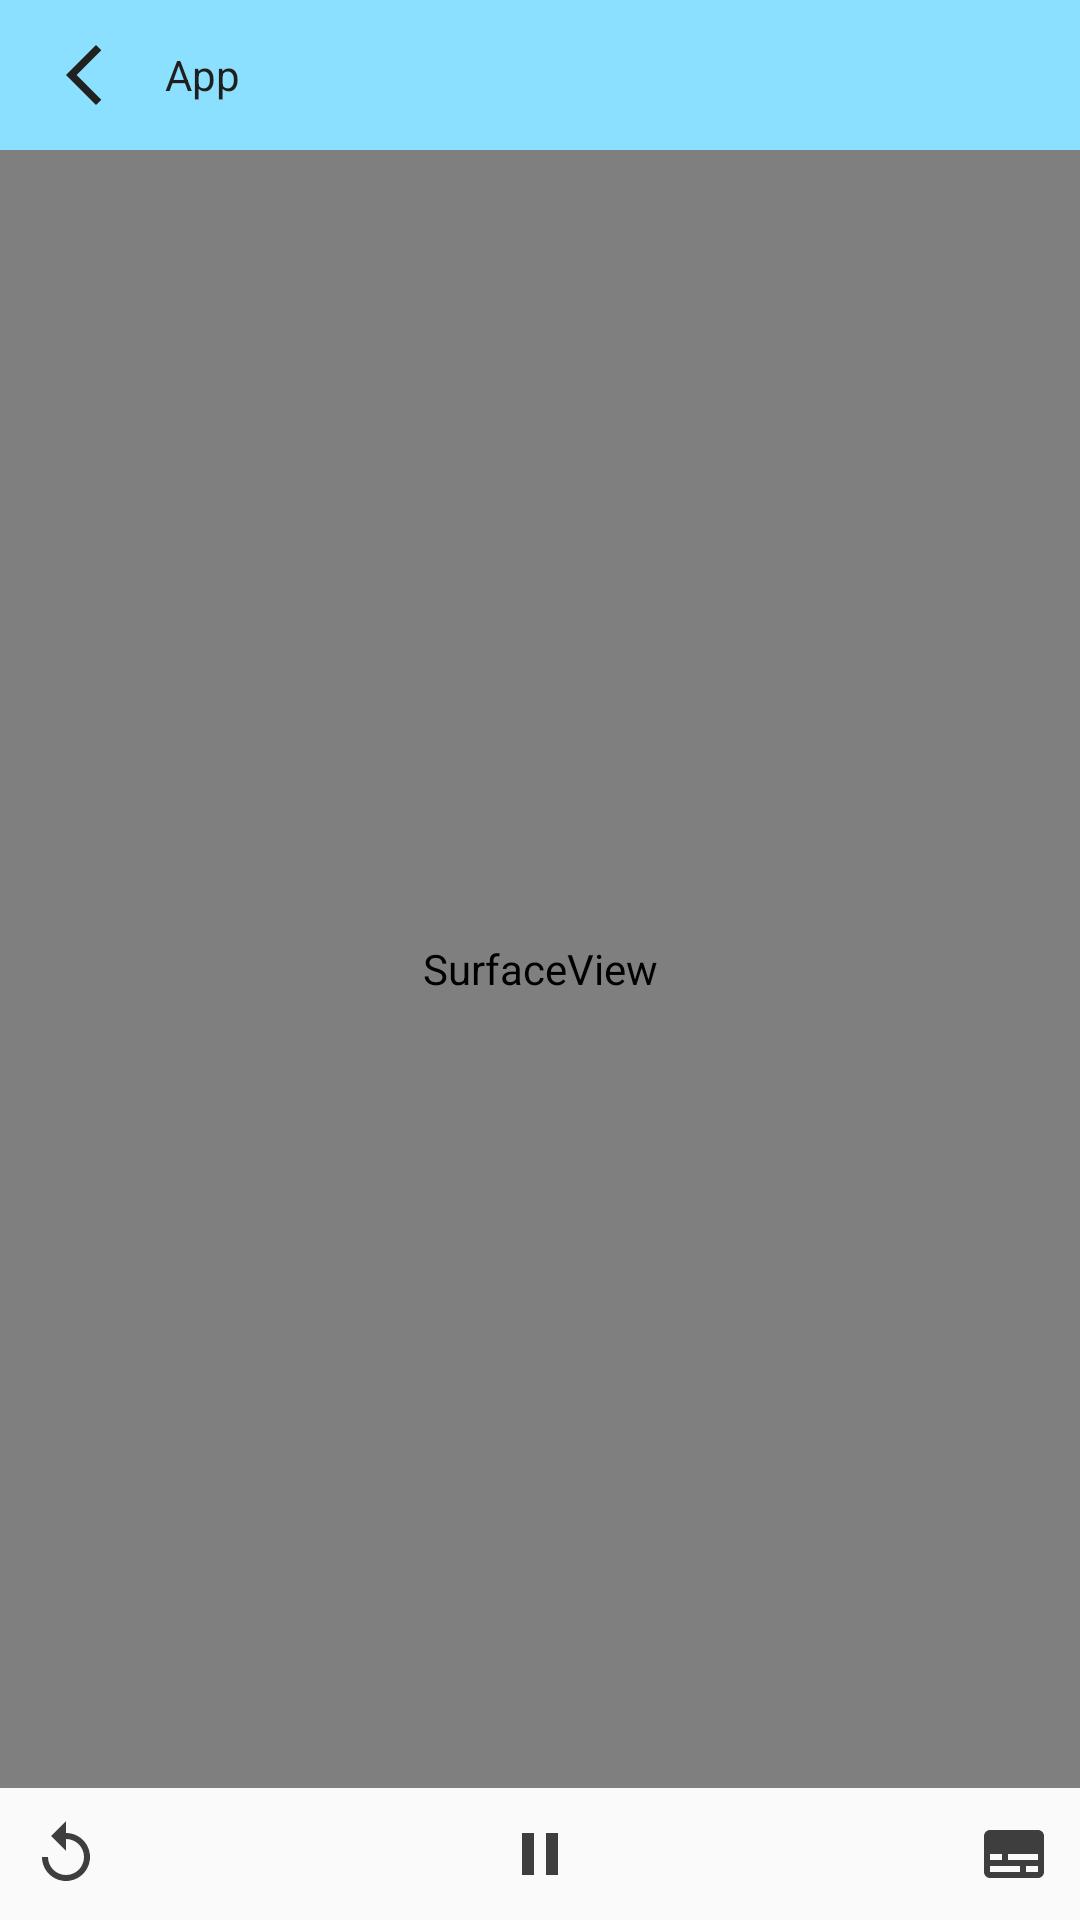

Screen size 1080 x 1920. Icon name, then its center in pixels as point (x, y):
pause: point (540, 1854)
replay: point (66, 1851)
subtitles: point (1014, 1854)
